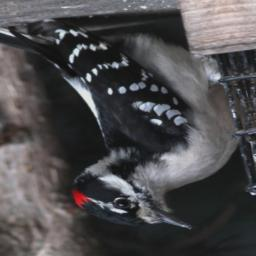Woodpecker: (0, 0, 256, 253)
